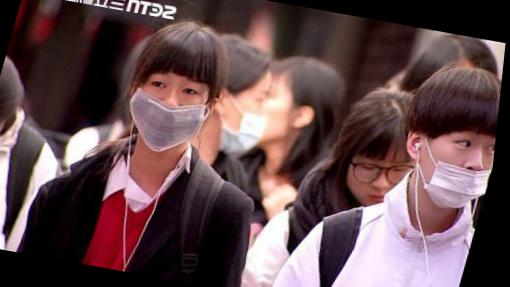NONE: (345, 146, 426, 217)
OK: (216, 79, 281, 160)
WRONG: (122, 66, 219, 158), (422, 112, 501, 216)
